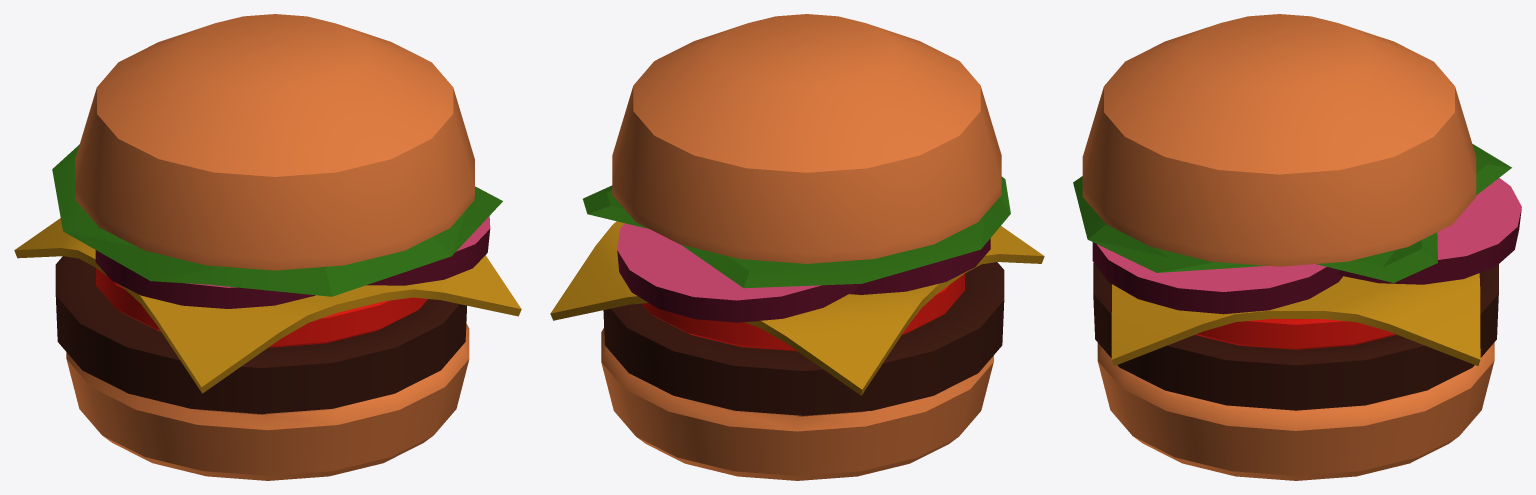
The model's file is Burger.FBX.
3 views of the same model, side by side, from view 1: azimuth 30°, elevation 25°; view 2: azimuth 150°, elevation 25°; view 3: azimuth 270°, elevation 25° (orthographic). The views are drawn at different scales.
Parts seen in each view (by area): view 1: Cylinder005, Cylinder001, Plane001, Plane002, Cylinder003, Cylinder004; view 2: Cylinder005, Cylinder001, Plane001, Cylinder006, Plane002, Cylinder003; view 3: Cylinder005, Cylinder001, Plane001, Cylinder004, Plane002, Cylinder006.
Part boxes in pixels (box(x1,y1,x2,y2)): Cylinder005: box(75, 14, 474, 270); Cylinder001: box(55, 256, 469, 480); Plane001: box(14, 218, 521, 393); Plane002: box(52, 144, 502, 296); Cylinder003: box(95, 250, 315, 308); Cylinder004: box(366, 216, 490, 285); Cylinder005: box(612, 14, 1001, 263); Cylinder001: box(601, 262, 1004, 480); Plane001: box(550, 221, 1044, 395); Cylinder006: box(617, 223, 860, 322); Plane002: box(583, 176, 1010, 288); Cylinder003: box(850, 238, 990, 294); Cylinder005: box(1082, 14, 1476, 266); Cylinder001: box(1093, 263, 1498, 480); Plane001: box(1111, 273, 1480, 365); Cylinder004: box(1092, 242, 1342, 314); Plane002: box(1073, 144, 1511, 282); Cylinder006: box(1339, 178, 1521, 284).
Bounding box in the file's own units: 32.7 × 29.94 × 34.53.
